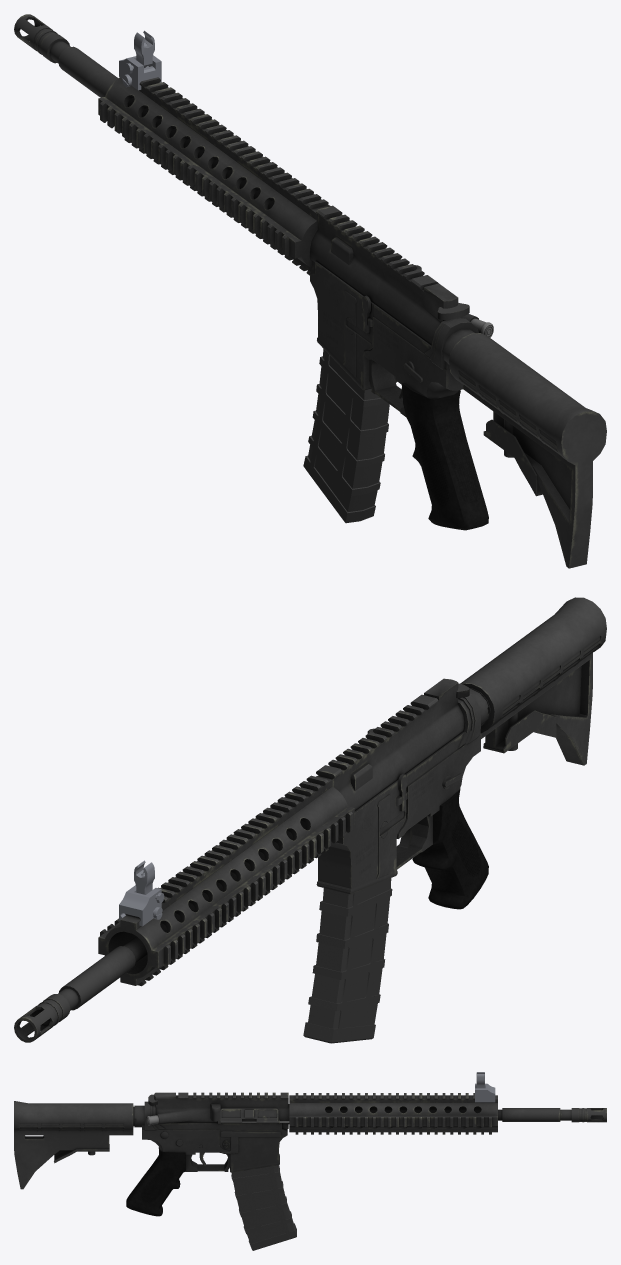
Rendered from m4_carbine.glb.
3 renders of one model, top to bottom at view 1: azimuth 30°, elevation 25°; view 2: azimuth 150°, elevation 25°; view 3: azimuth 270°, elevation 25°, orthographic. The views are drawn at different scales.
Size of the model in its own units: 0.0619 by 0.2724 by 0.838.
Materials: 4 (3 with a texture image).
